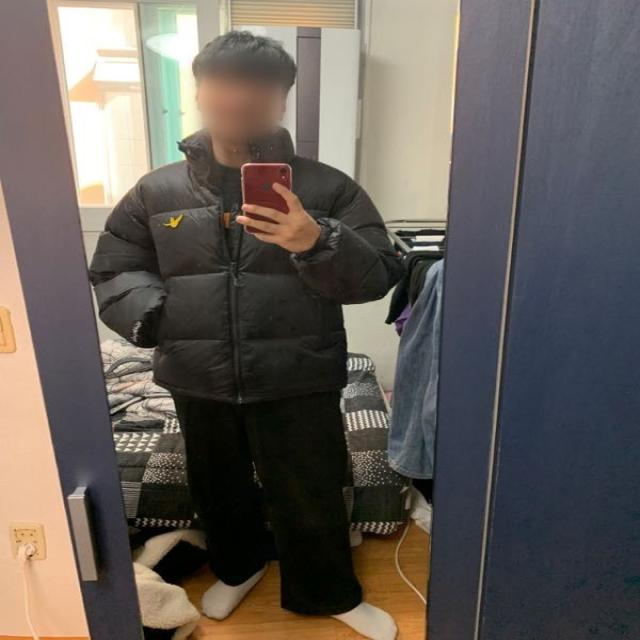padding: (88, 126, 395, 404)
trainingpants: (171, 381, 365, 615)
